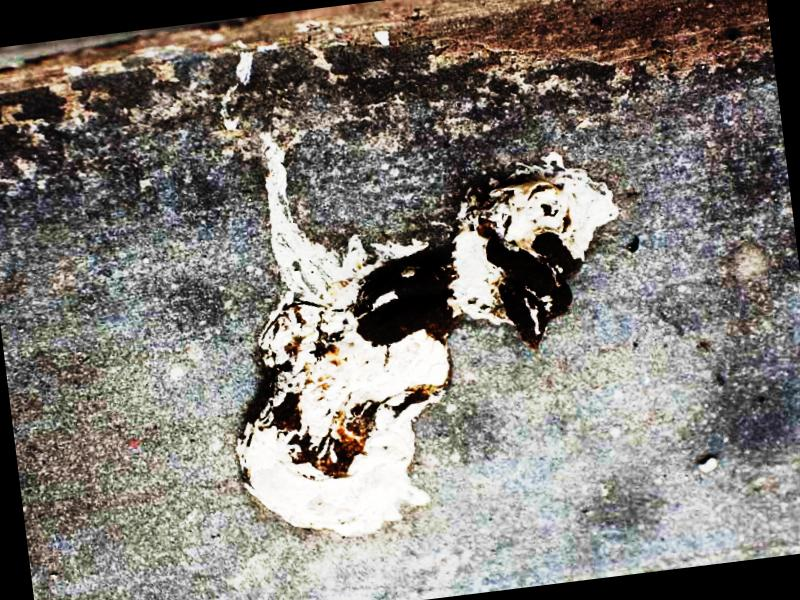Bird Poop: (237, 143, 617, 535)
